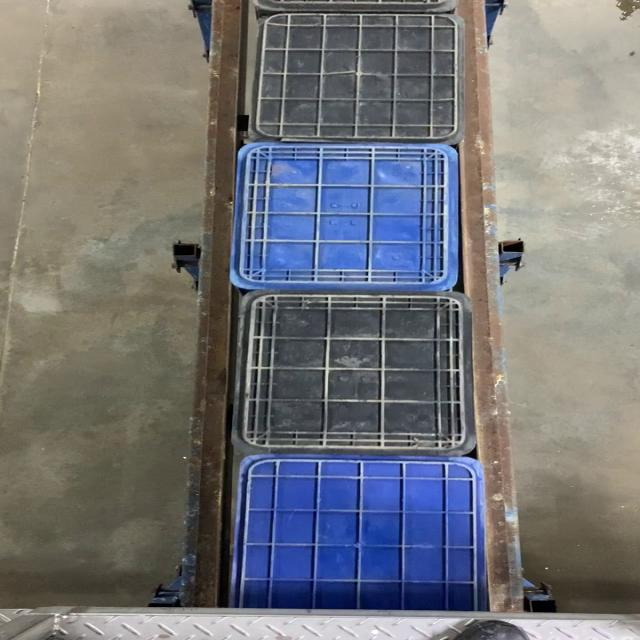Box: (231, 289, 477, 455), (229, 147, 456, 289), (245, 11, 463, 147)
